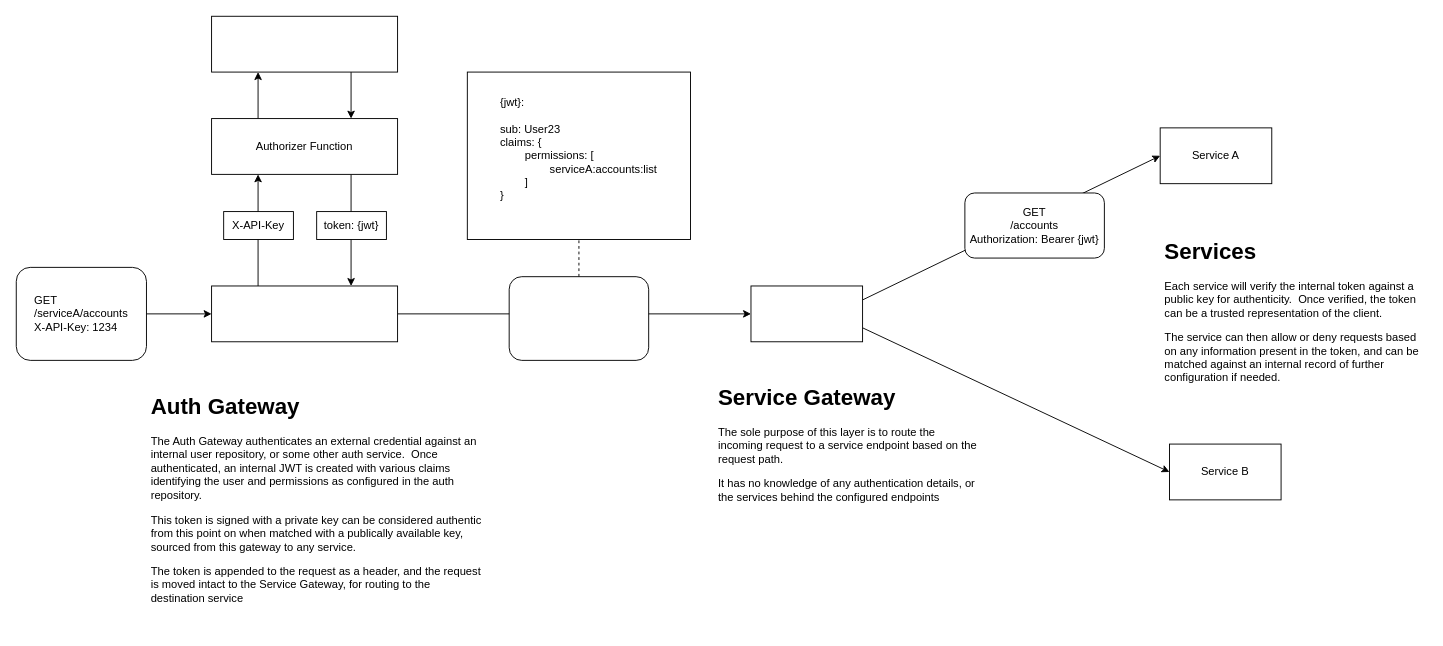
This 1443x646 diagram has some shape labels left out. The shapes that lost their labels are listed below. From the top down, each one's centre as x and y in pixels, then its label:
(304,43): Auth/User Repository
(304,313): Auth Gateway
(578,318): GET /serviceA/accounts Authorization: Bearer {jwt}
(806,313): Service Gateway
